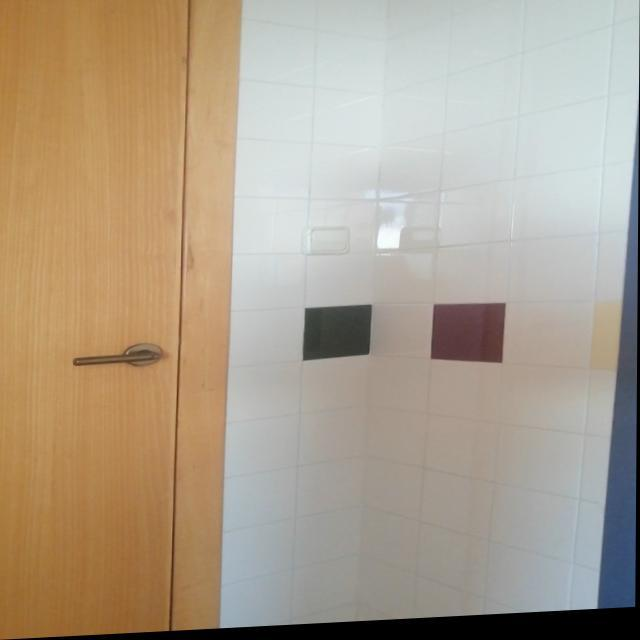door_handle: (67, 348, 167, 369)
